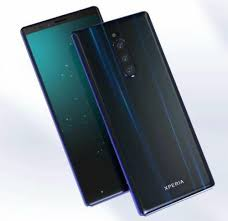sony: (70, 7, 216, 217)
